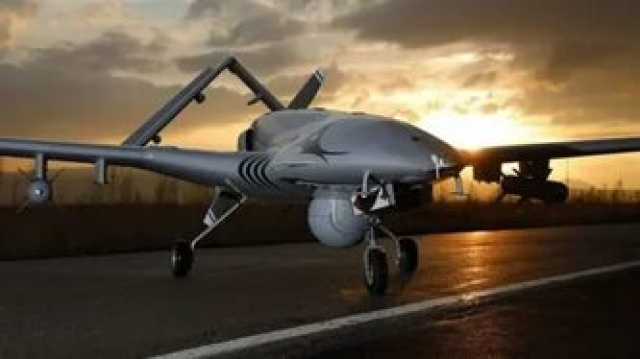military drone: (0, 56, 640, 294)
